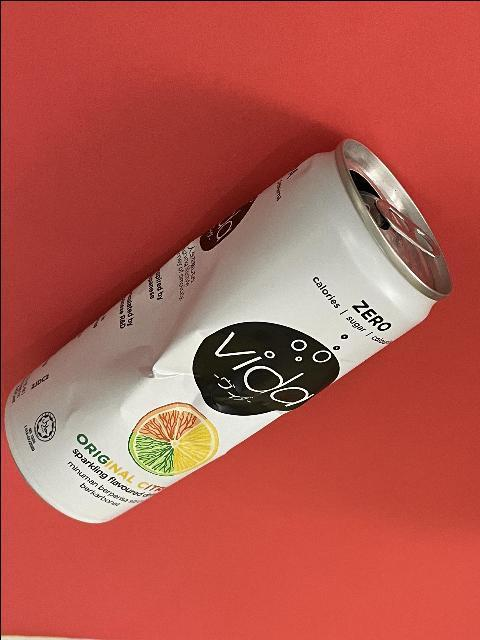drinkcan: (3, 134, 450, 526)
